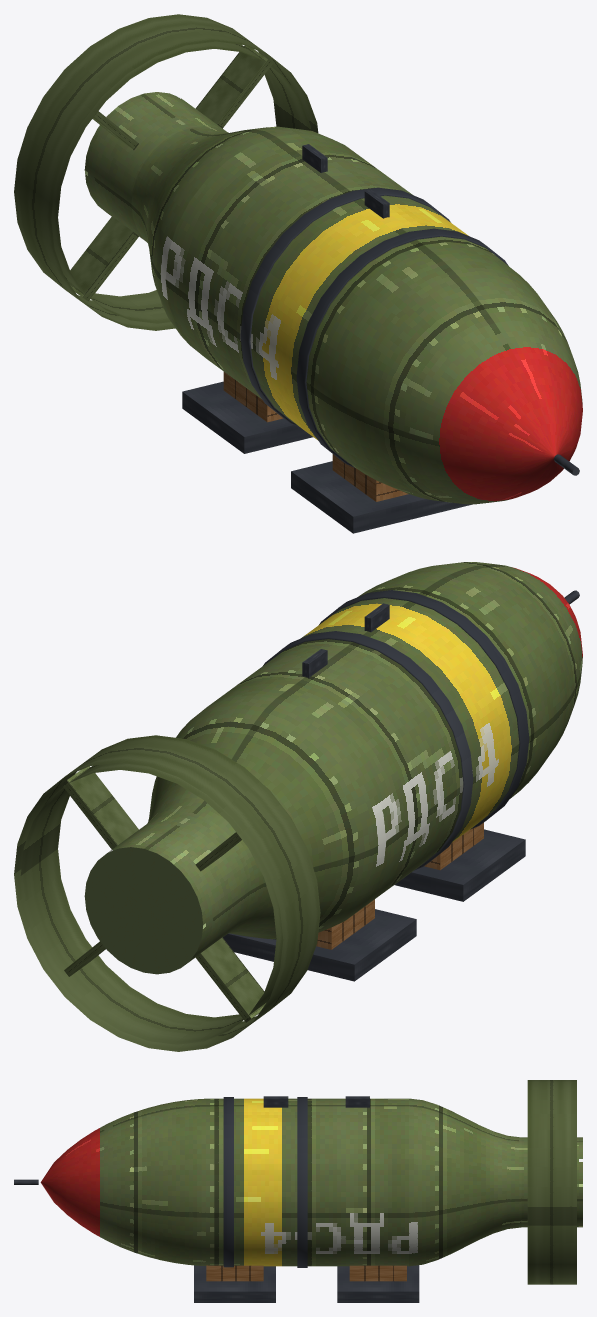
The model's file is rds_4.glb.
3 renders of one model, top to bottom at view 1: azimuth 30°, elevation 25°; view 2: azimuth 150°, elevation 25°; view 3: azimuth 270°, elevation 25°, orthographic. The views are drawn at different scales.
Parts seen in each view (by area): view 1: hull, fins, cradle, details; view 2: hull, fins, cradle, details; view 3: hull, fins, cradle, details.
Boxes of the visible parts, x1,y1,x2,y2 form: hull: (84,92,582,504); fins: (14,14,318,330); cradle: (182,372,472,533); details: (302,144,579,475); hull: (84,562,582,974); fins: (14,735,320,1051); cradle: (223,822,525,981); details: (302,590,579,677); hull: (40,1097,582,1267); fins: (527,1080,576,1284); cradle: (194,1265,419,1302); details: (14,1096,369,1184).
Bounding box in the file's own units: 1 × 1 × 2.78.
Materials: 1 (1 with a texture image).
